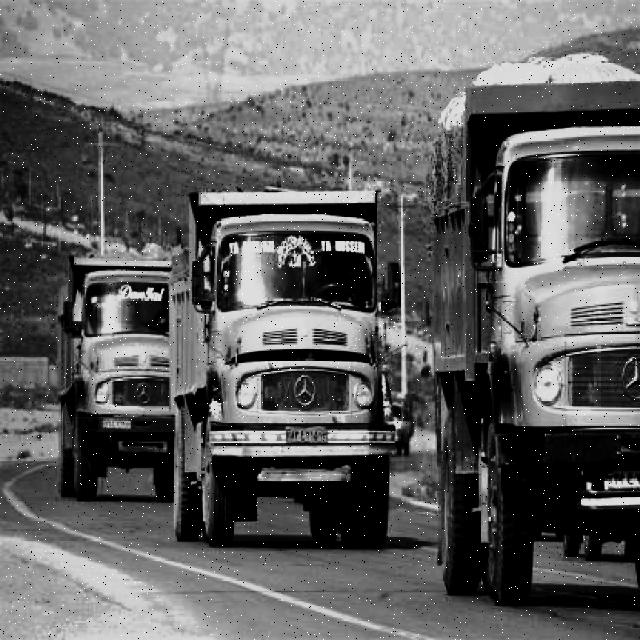HCV: (141, 13, 640, 564)
